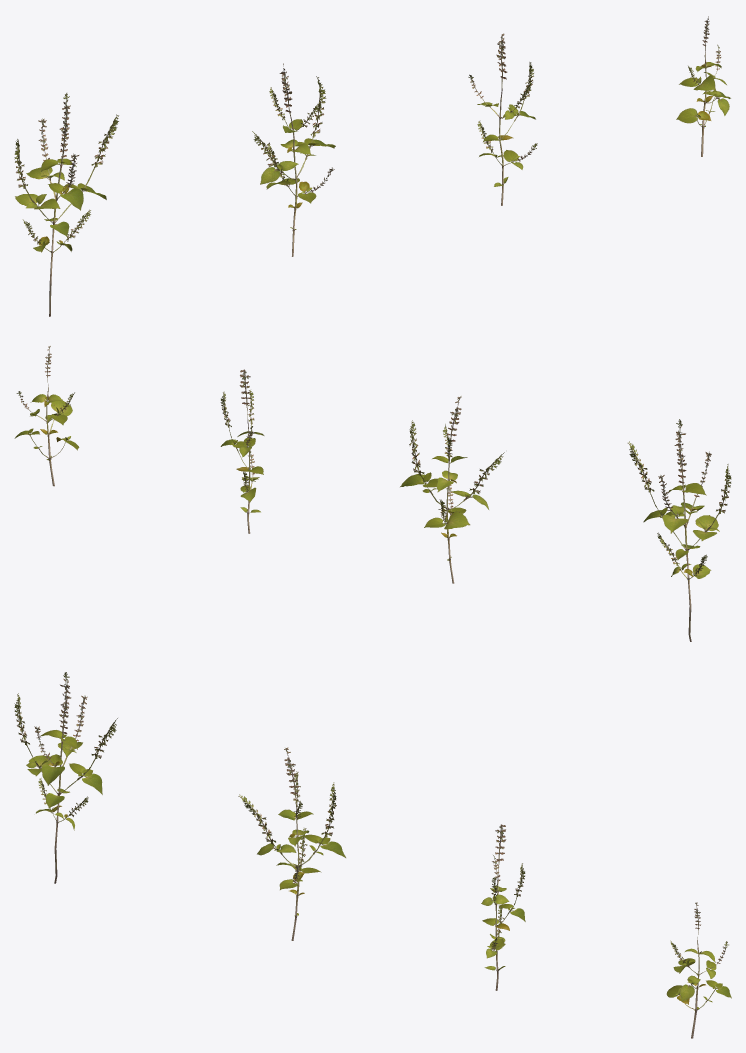
Rendered from ph_shrub.glb.
The picture shows the model from 3 angles, top to bottom: view 1: azimuth 30°, elevation 25°; view 2: azimuth 150°, elevation 25°; view 3: azimuth 330°, elevation 25°; orthographic projection. The views are drawn at different scales.
Visible parts, largest first — view 1: shrub_03_a, shrub_03_b, shrub_03_c, shrub_03_d; view 2: shrub_03_a, shrub_03_b, shrub_03_c, shrub_03_d; view 3: shrub_03_a, shrub_03_b, shrub_03_c, shrub_03_d.
Part boxes in pixels (bbox=[...]): shrub_03_a: bbox=[14, 93, 118, 316]; shrub_03_b: bbox=[252, 63, 335, 256]; shrub_03_c: bbox=[468, 33, 537, 205]; shrub_03_d: bbox=[676, 16, 730, 156]; shrub_03_a: bbox=[627, 419, 731, 641]; shrub_03_b: bbox=[400, 396, 504, 583]; shrub_03_c: bbox=[220, 369, 264, 533]; shrub_03_d: bbox=[14, 346, 79, 486]; shrub_03_a: bbox=[14, 672, 117, 883]; shrub_03_b: bbox=[238, 747, 345, 940]; shrub_03_c: bbox=[481, 824, 525, 990]; shrub_03_d: bbox=[666, 902, 731, 1038].
Size of the model in its own units: 1.37 by 0.4028 by 0.1512.
1 material, 1 textured.
